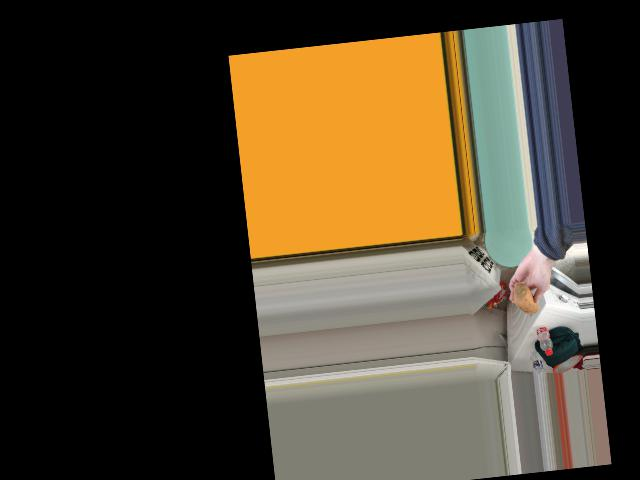sweet_potato: (512, 284, 537, 315)
